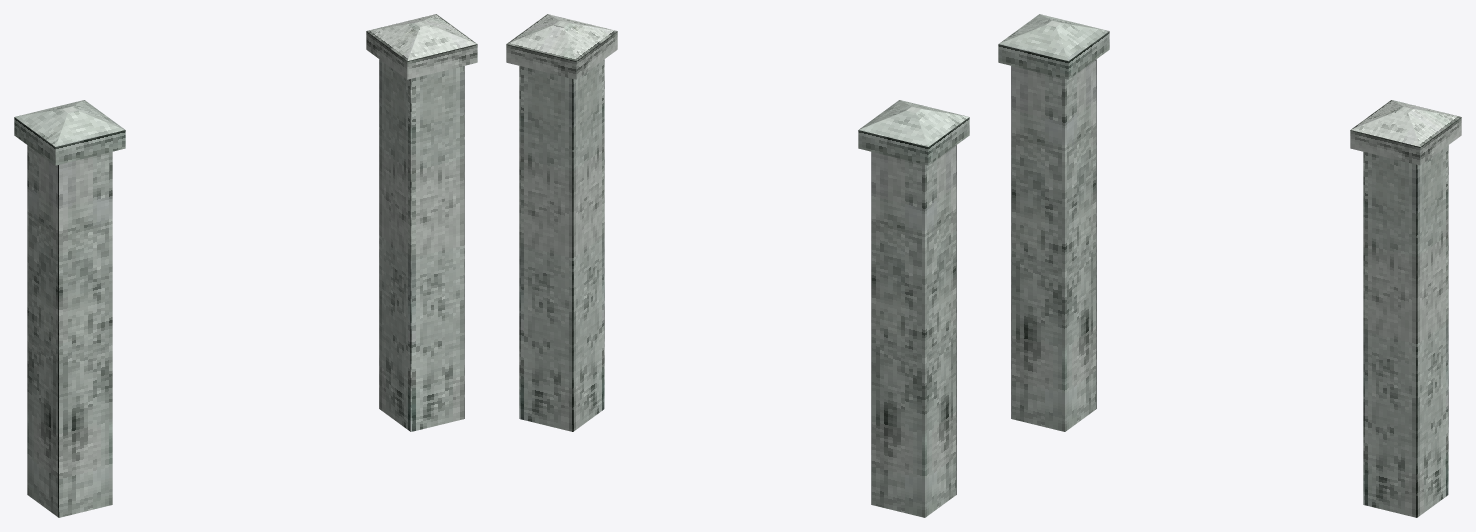
The model's file is lf_picket_gate_posts.glb.
3 renders of one model, left to right at view 1: azimuth 30°, elevation 25°; view 2: azimuth 150°, elevation 25°; view 3: azimuth 330°, elevation 25°, orthographic.
Parts seen in each view (by area): view 1: white_picket_fence_gate_poles; view 2: white_picket_fence_gate_poles; view 3: white_picket_fence_gate_poles.
Part boxes in pixels (x1,y1,x2,y2): white_picket_fence_gate_poles: [14, 14, 477, 517]; white_picket_fence_gate_poles: [506, 14, 969, 517]; white_picket_fence_gate_poles: [998, 14, 1461, 517].
Size of the model in its own units: 1.55 by 1.37 by 0.2612.
1 material, 1 textured.
